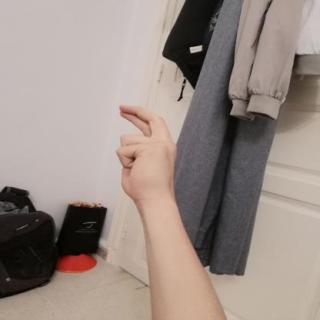ZAY: (104, 99, 187, 206)
